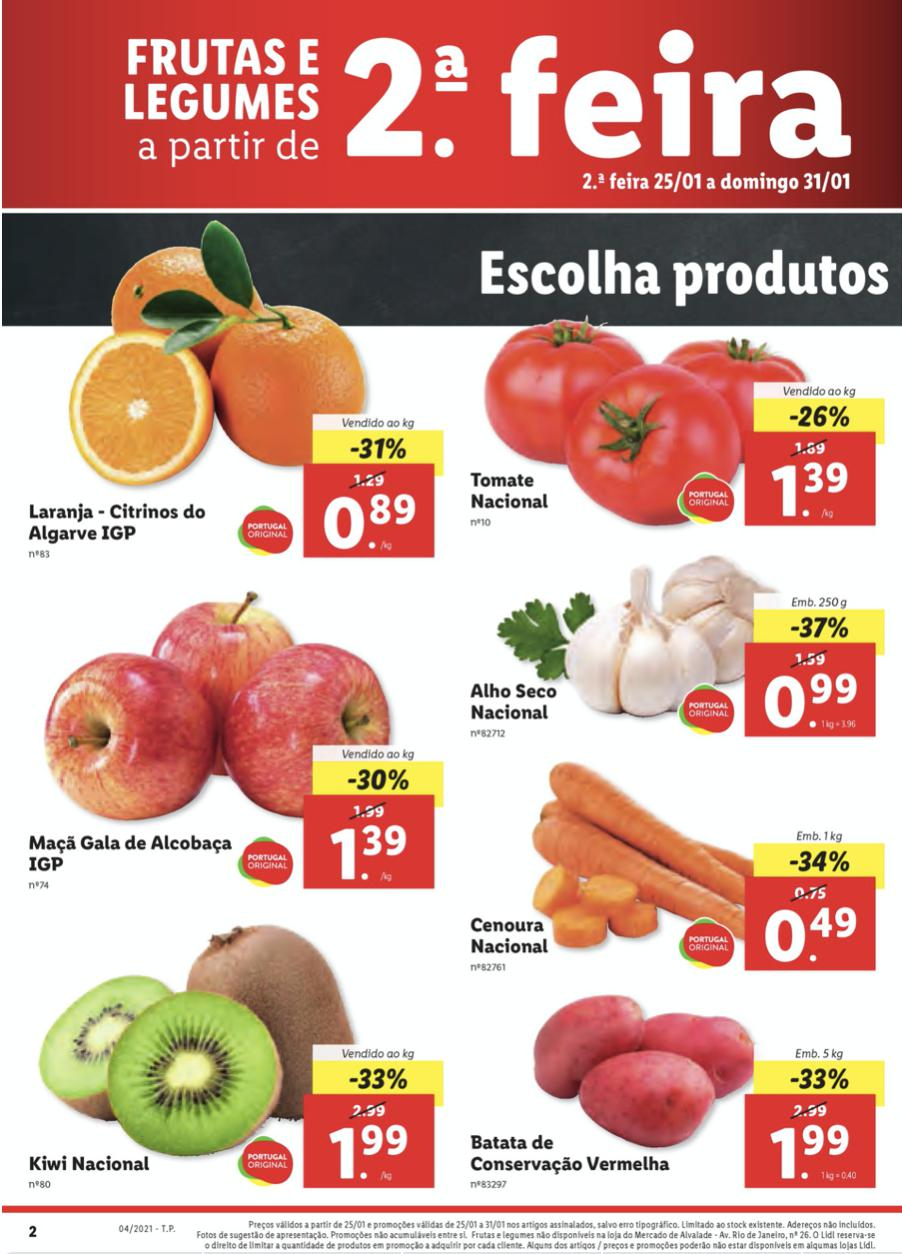name: (19, 499, 215, 548), (21, 832, 236, 873), (466, 909, 558, 962), (469, 470, 558, 520), (29, 1151, 157, 1184), (469, 679, 561, 723)
price: (315, 487, 427, 556), (761, 668, 861, 742), (765, 903, 861, 967), (766, 457, 857, 524), (765, 1121, 858, 1185), (321, 1126, 415, 1185), (330, 823, 415, 887)
product: (15, 213, 461, 582), (11, 570, 449, 898), (11, 898, 451, 1199), (443, 746, 899, 993), (469, 323, 897, 546), (451, 993, 899, 1199), (451, 546, 897, 751)
promotion: (785, 1063, 855, 1098), (783, 615, 860, 646), (790, 403, 860, 437), (785, 846, 854, 878), (344, 762, 415, 793), (346, 1063, 411, 1095), (349, 434, 411, 467)
